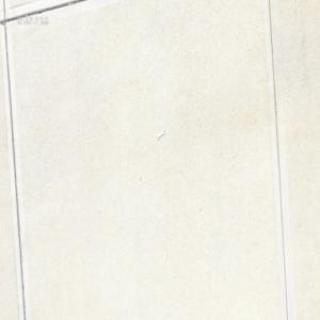Wrenchtrack_idkeyframe: (155, 129, 164, 140)
